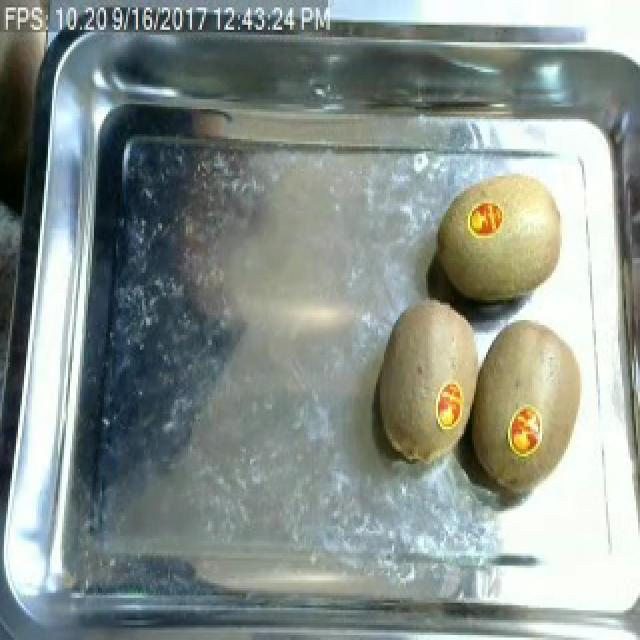Fruit: (430, 166, 574, 313), (366, 293, 484, 471), (492, 310, 596, 466)
